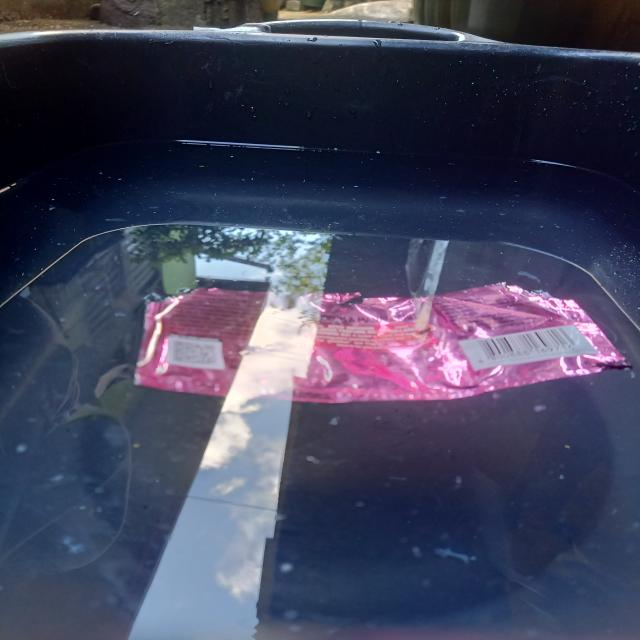Plastic Wrapper: (119, 274, 640, 412)
